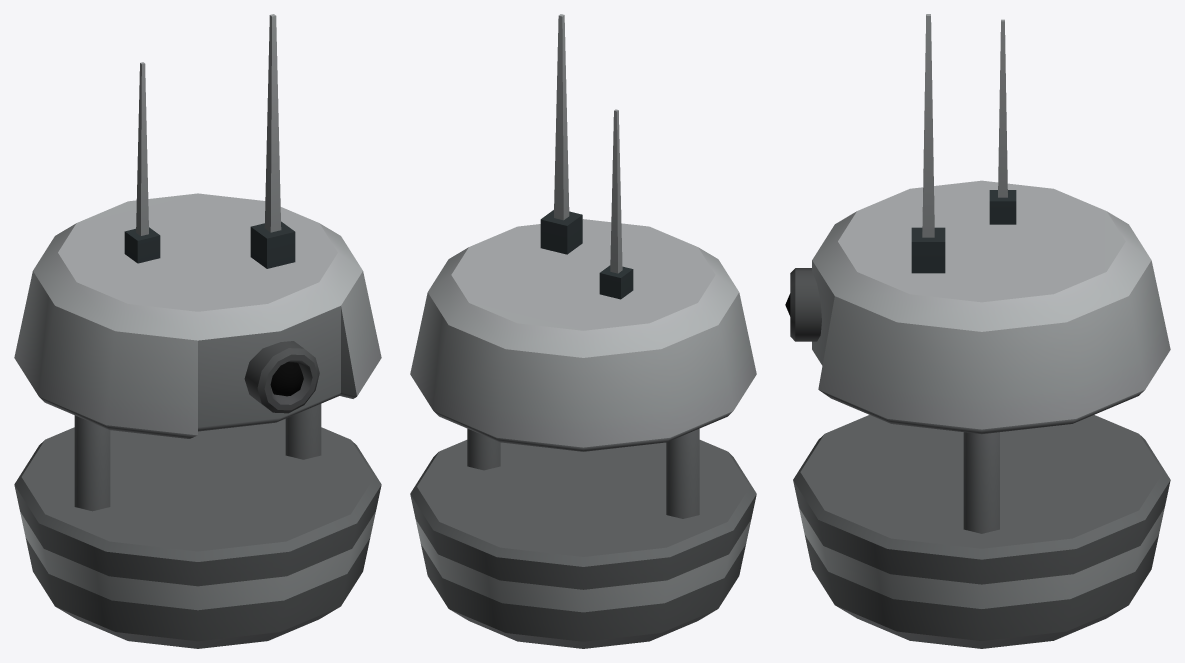
File: Drone_013.fbx
3 views of the same model, side by side, from view 1: azimuth 30°, elevation 25°; view 2: azimuth 150°, elevation 25°; view 3: azimuth 270°, elevation 25° (orthographic). The views are drawn at different scales.
Parts seen in each view (by area): view 1: Drone_013; view 2: Drone_013; view 3: Drone_013.
Part boxes in pixels (x1,y1,x2,y2): Drone_013: (14,14,381,648); Drone_013: (410,14,756,648); Drone_013: (785,14,1170,648).
Bounding box in the file's own units: 43.12 × 44 × 75.29.
